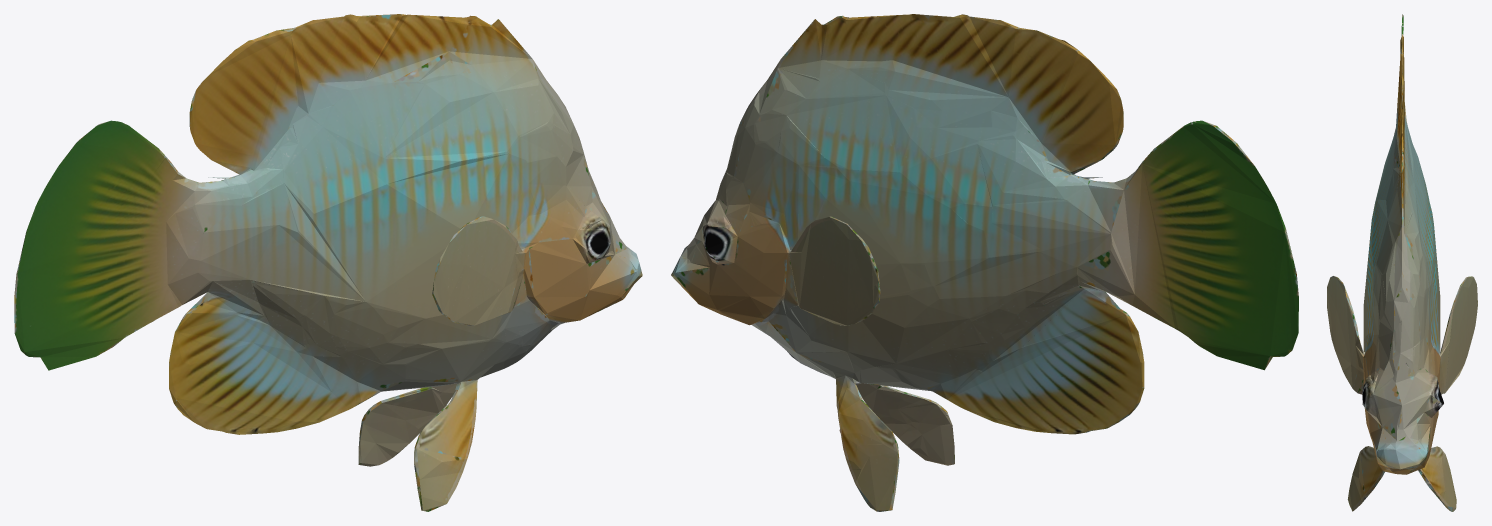
The model's file is fish_0094_smpl23_resized.glb.
The picture shows the model from 3 angles, left to right: view 1: azimuth 30°, elevation 25°; view 2: azimuth 150°, elevation 25°; view 3: azimuth 270°, elevation 25°; orthographic projection. The views are drawn at different scales.
Visible parts, largest first — view 1: world; view 2: world; view 3: world.
Boxes of the visible parts, x1,y1,x2,y2 form: world: (14, 14, 642, 511); world: (671, 14, 1298, 511); world: (1327, 14, 1477, 511).
Bounding box in the file's own units: 1.99 × 1.5 × 0.4963.
1 material, 1 textured.
